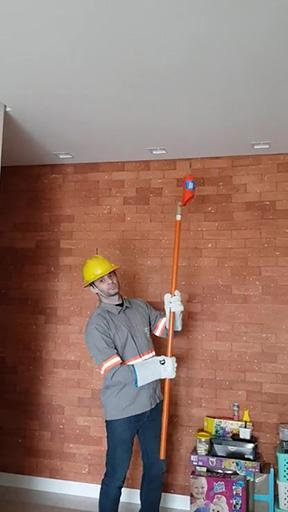Detector_Tensao_Contato: (181, 160, 197, 207)
Vara_Manobra: (159, 203, 184, 458)
